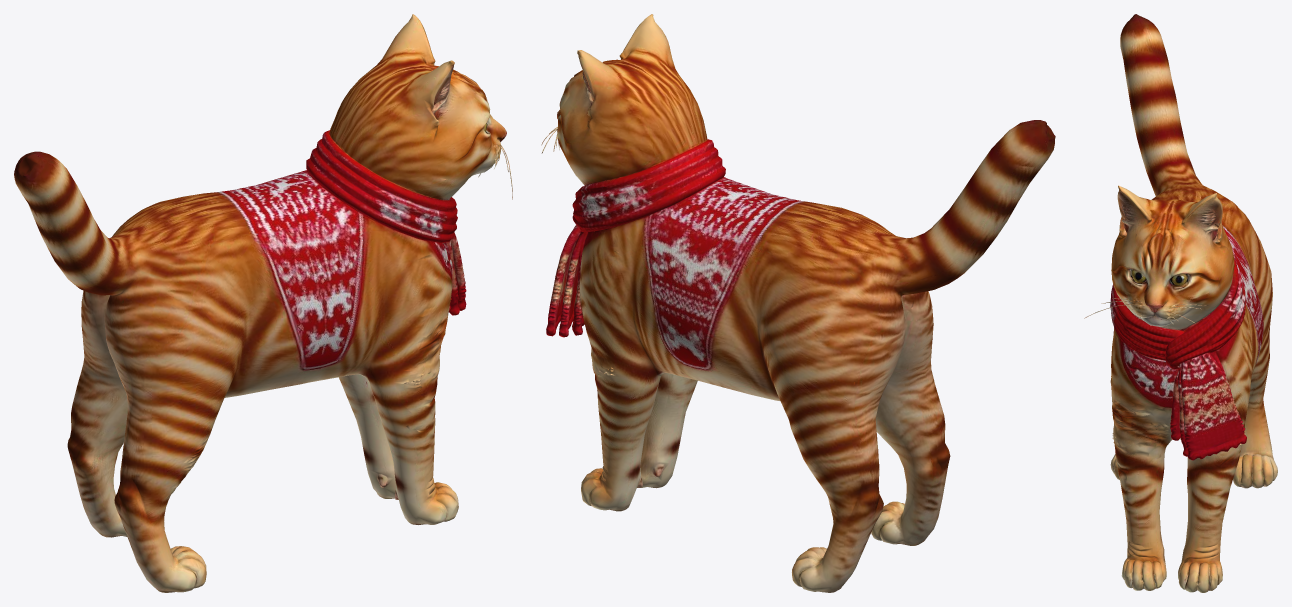
File: STREETBOB.glb
3 views of the same model, side by side, from view 1: azimuth 30°, elevation 25°; view 2: azimuth 150°, elevation 25°; view 3: azimuth 270°, elevation 25° (orthographic). The views are drawn at different scales.
Parts seen in each view (by area): view 1: fit; view 2: fit; view 3: fit.
Boxes of the visible parts, box(x1,y1,x2,y2) form: fit: box(14, 14, 512, 592); fit: box(541, 14, 1055, 592); fit: box(1084, 14, 1277, 592).
Size of the model in its own units: 1.11 by 0.999 by 0.4369.
1 material, 1 textured.
